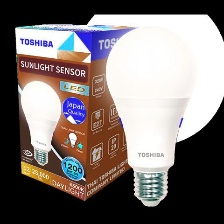book: (11, 19, 145, 204)
light_bulb: (105, 23, 199, 210)
